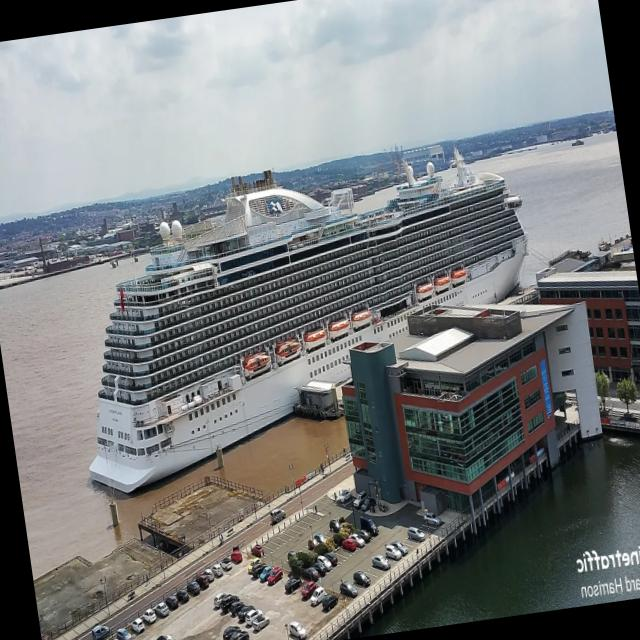Cruise: (90, 153, 528, 493)
